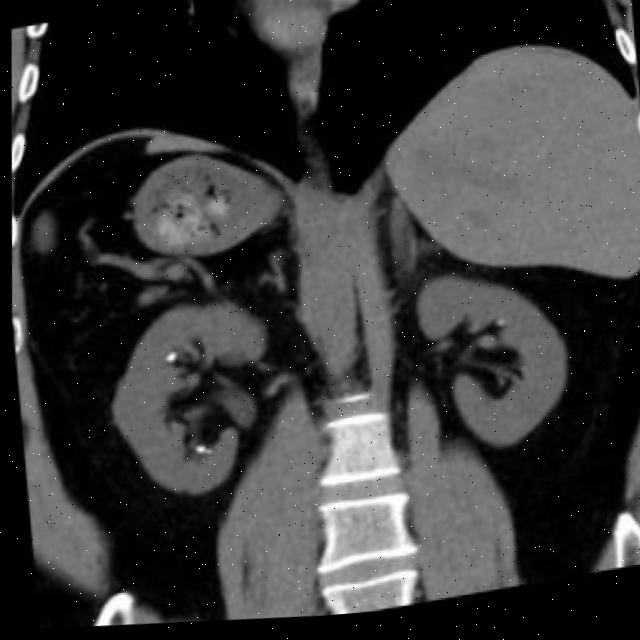Tas_Var: (157, 349, 175, 371), (188, 445, 202, 458), (490, 325, 500, 335), (200, 449, 208, 460)
